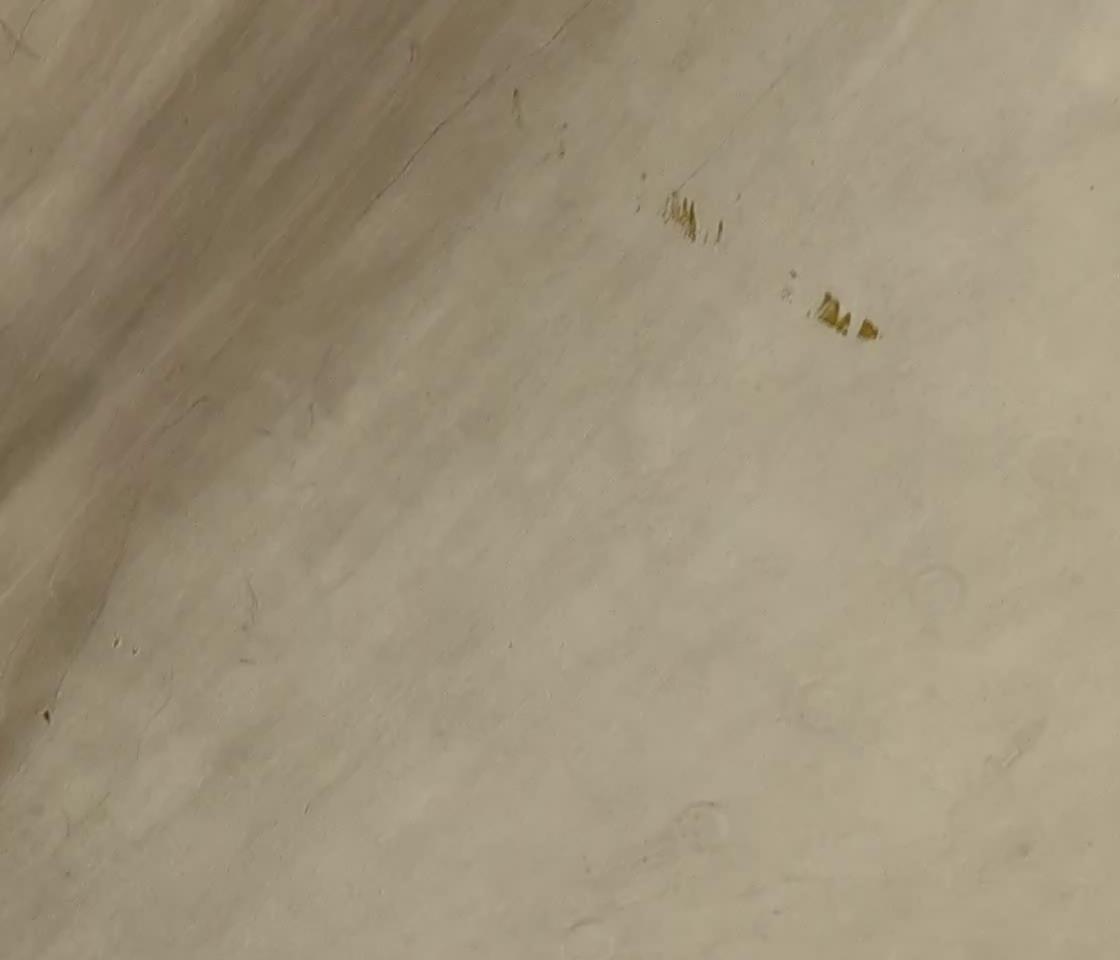paint_peel: (805, 290, 855, 341)
